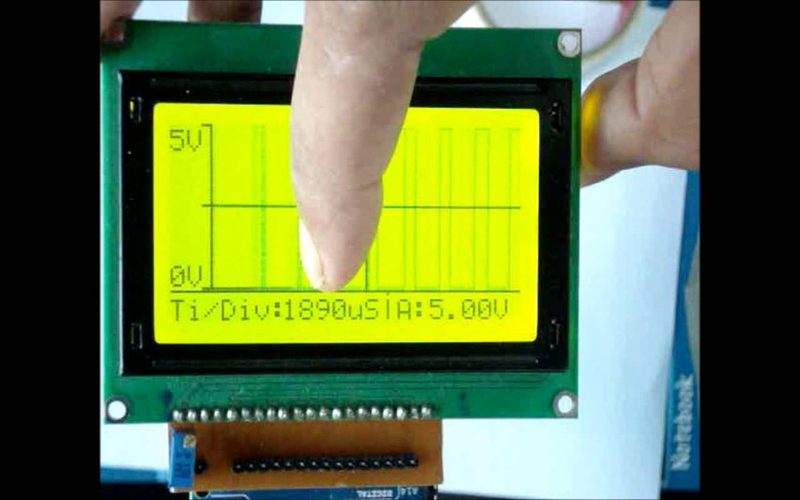LCD: (104, 55, 578, 385)
